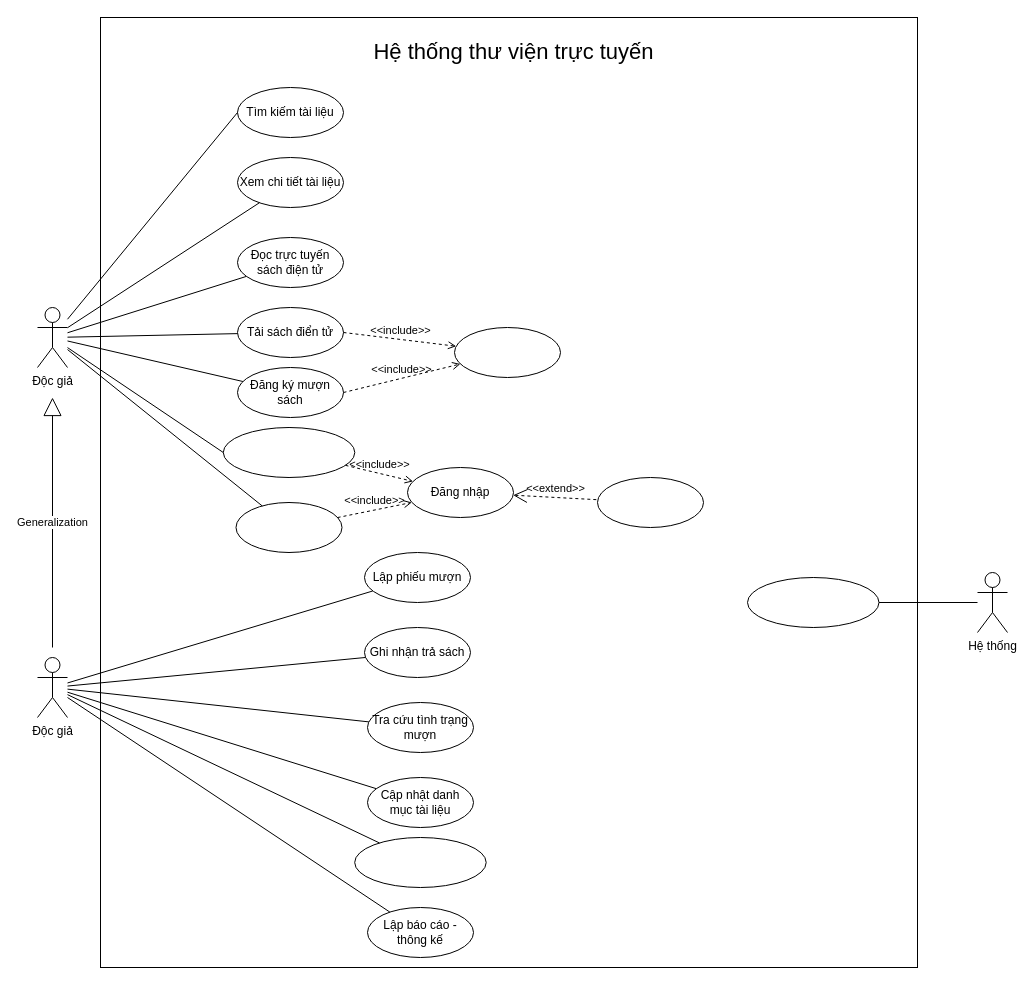
Image size: 1034x985. Some labels were removed from this diagram. The box of each missing label's shape, as (x1, y1, x2, y2) in pixels:
Duyệt yêu cầu đặt mua: (354, 836, 486, 888)
Gửi email- nhắc trả hẹn: (746, 576, 879, 628)
Gửi yêu cầu đặt mua: (222, 426, 355, 478)
Kiểm tra mã thẻ thư viện: (454, 326, 560, 378)
Theo dõi yêu cầu đặt mua: (235, 502, 342, 552)
Đăng ký: (596, 476, 704, 528)
